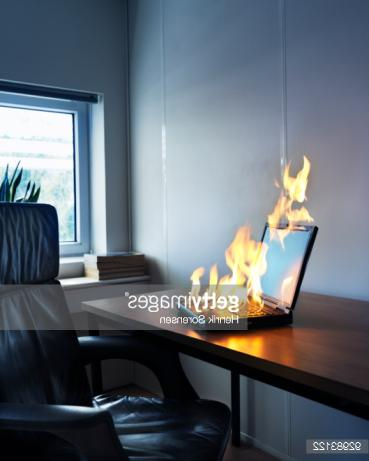fire: (178, 225, 268, 326), (269, 157, 324, 237)
